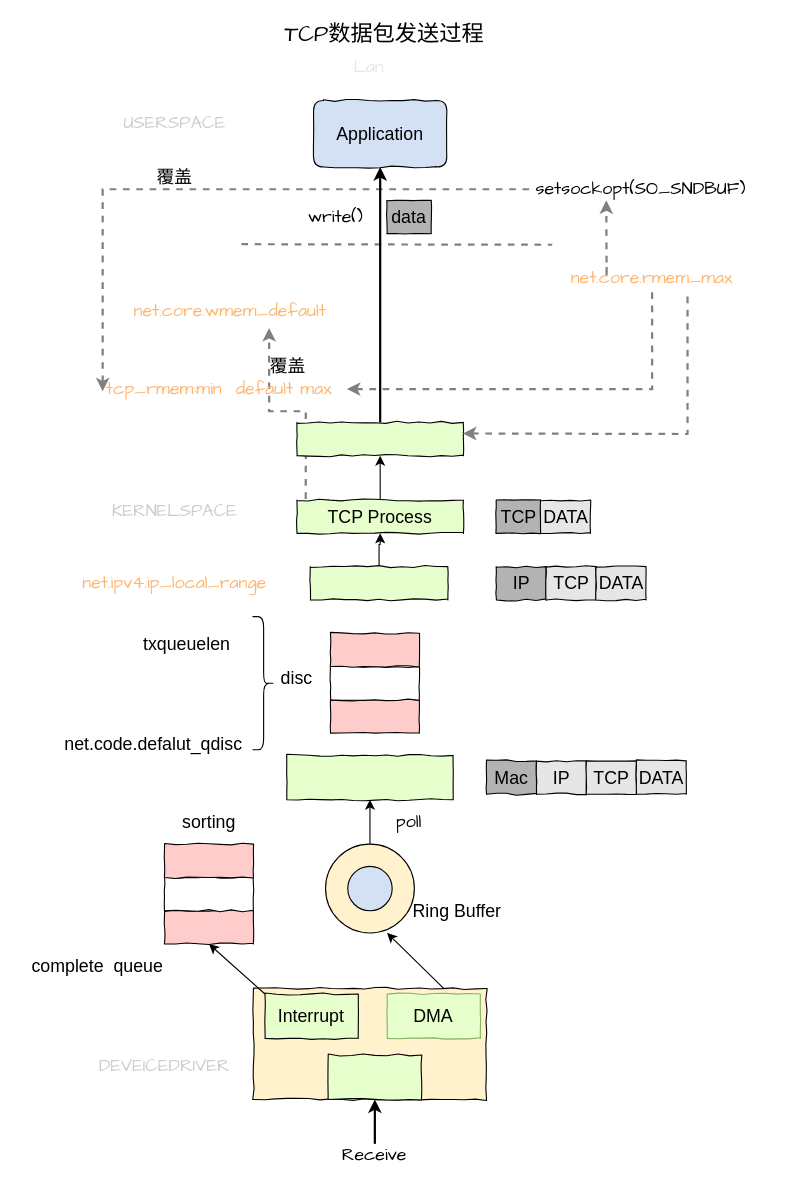
This 793x1184 diagram has some shape labels left out. Here are the shapes that lost their labels. From the top down, the centre of each, then its label:
At point (379, 438): "TCP Send Buffer".
At point (378, 583): "IP Layer".
At point (369, 777): "Link Layer".
At point (374, 1076): "NIC Memory".
